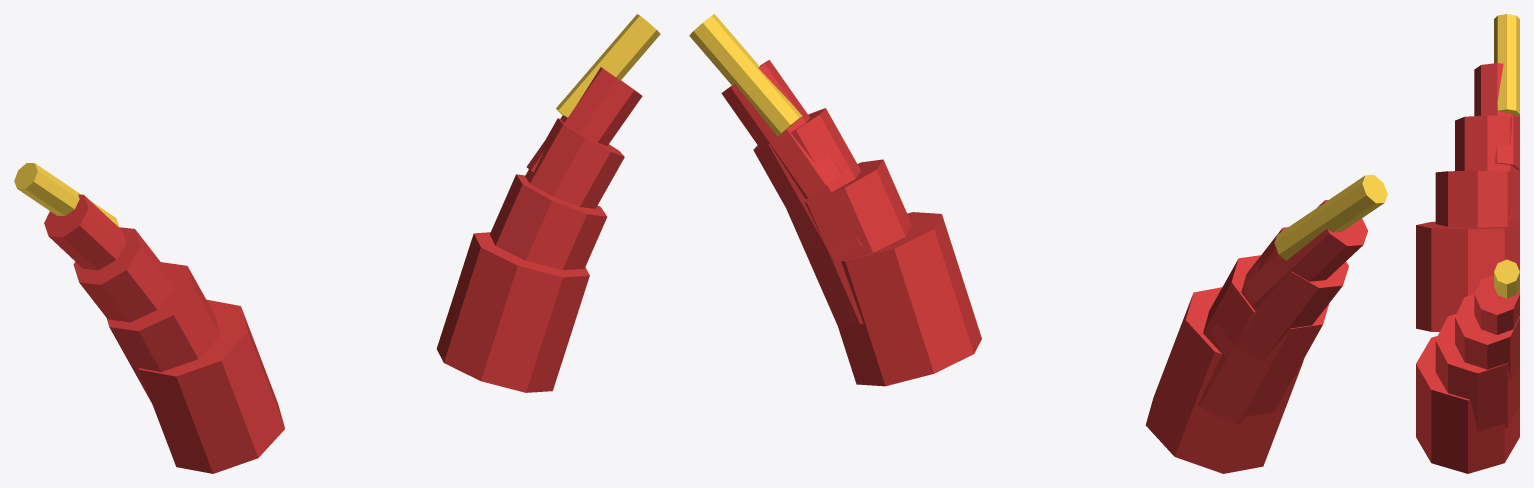
The model's file is AccHorns.fbx.
The picture shows the model from 3 angles, left to right: view 1: azimuth 30°, elevation 25°; view 2: azimuth 150°, elevation 25°; view 3: azimuth 270°, elevation 25°; orthographic projection. The views are drawn at different scales.
Parts seen in each view (by area): view 1: AccHorns; view 2: AccHorns; view 3: AccHorns.
Part boxes in pixels (x1,y1,x2,y2): AccHorns: (14,14,660,473); AccHorns: (689,14,1387,473); AccHorns: (1416,14,1519,473).
Bounding box in the file's own units: 189 × 89.08 × 32.
